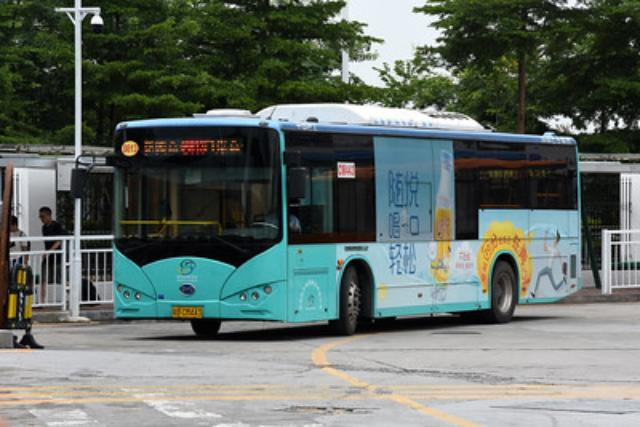bus: (110, 102, 579, 336)
